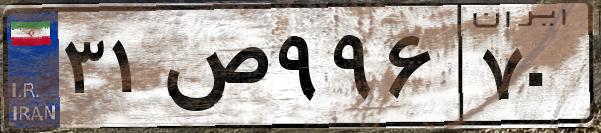0: (525, 38, 570, 115)
1: (110, 28, 158, 98)
3: (57, 26, 110, 100)
6: (385, 28, 445, 110)
7: (475, 38, 525, 113)
9: (270, 28, 330, 110), (330, 28, 385, 110)
ص: (158, 20, 270, 120)
